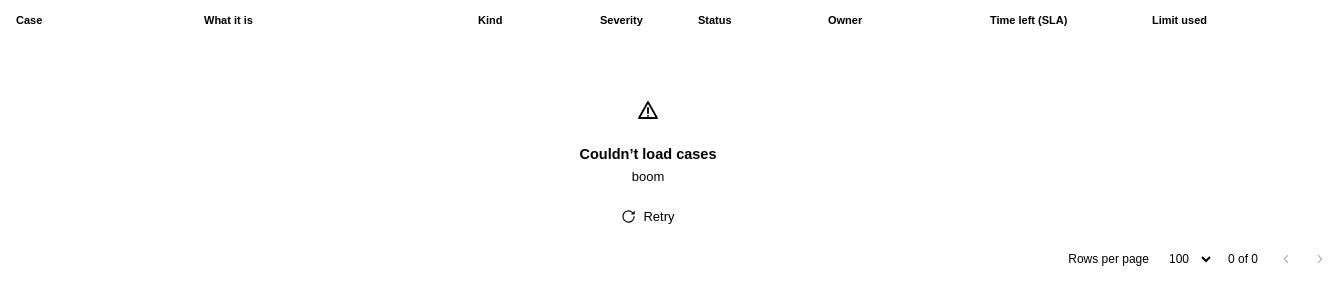
Scenario: list states › shows the error with a retry
The image size is (1339, 283).
Check: the heading "Couldn’t load cases" is shown, box x1=580 y1=146 x2=716 y2=162
Click the button "Retry": x=648, y=216 x1=608 y1=201 x2=688 y2=232
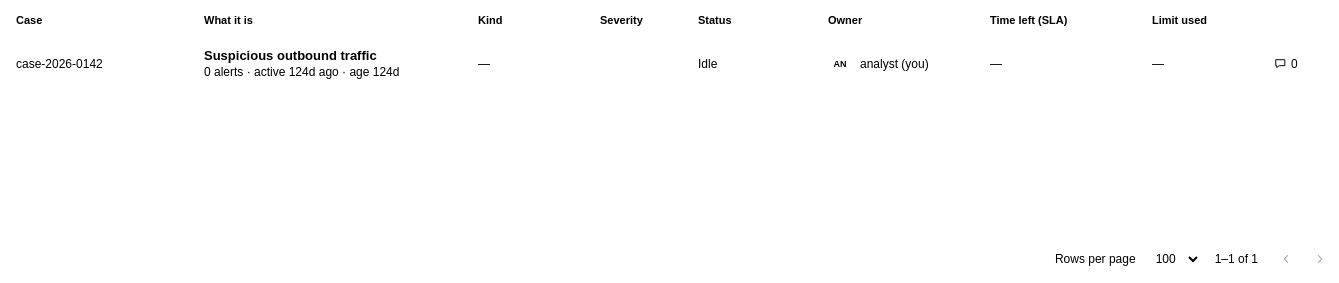
Check: the text "Suspicious outbound traffic" is shown, box x1=204 y1=48 x2=377 y2=63
